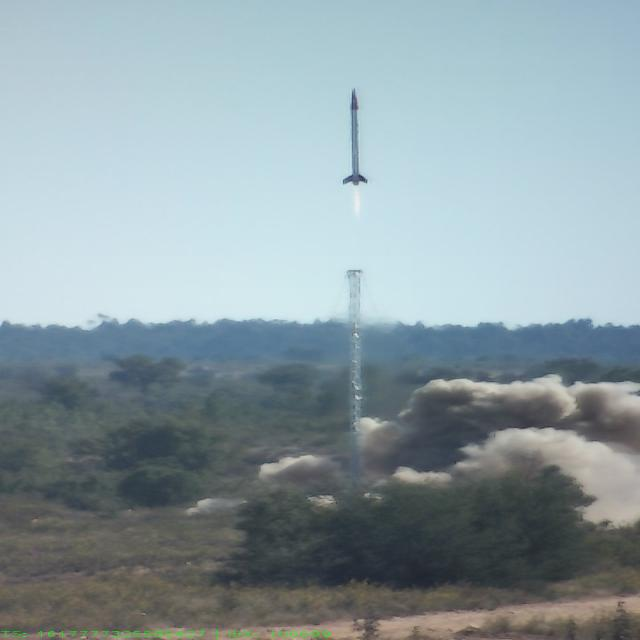Rocket: (341, 88, 368, 186)
